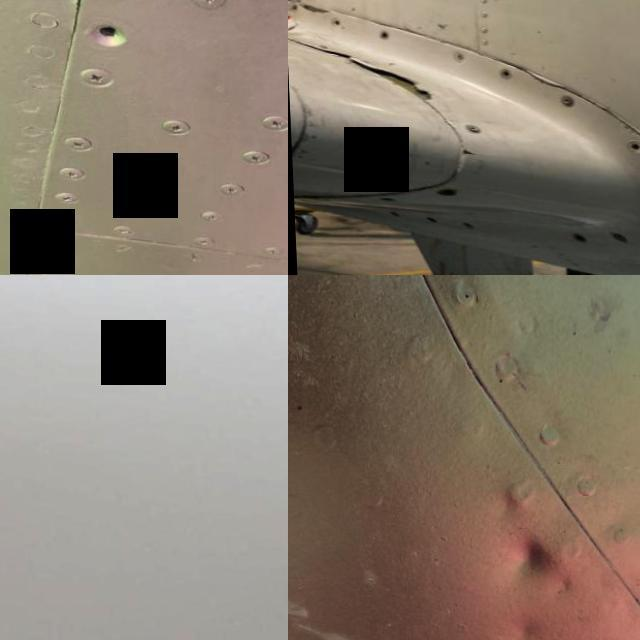Crack: (314, 50, 436, 104), (565, 90, 640, 131), (516, 68, 562, 90), (443, 144, 487, 160)
Dent: (464, 505, 582, 608)
Missing_Fastener: (69, 0, 142, 64), (432, 186, 454, 195), (624, 138, 640, 150), (495, 66, 509, 78), (569, 230, 583, 241), (374, 29, 389, 38), (328, 18, 340, 28)
